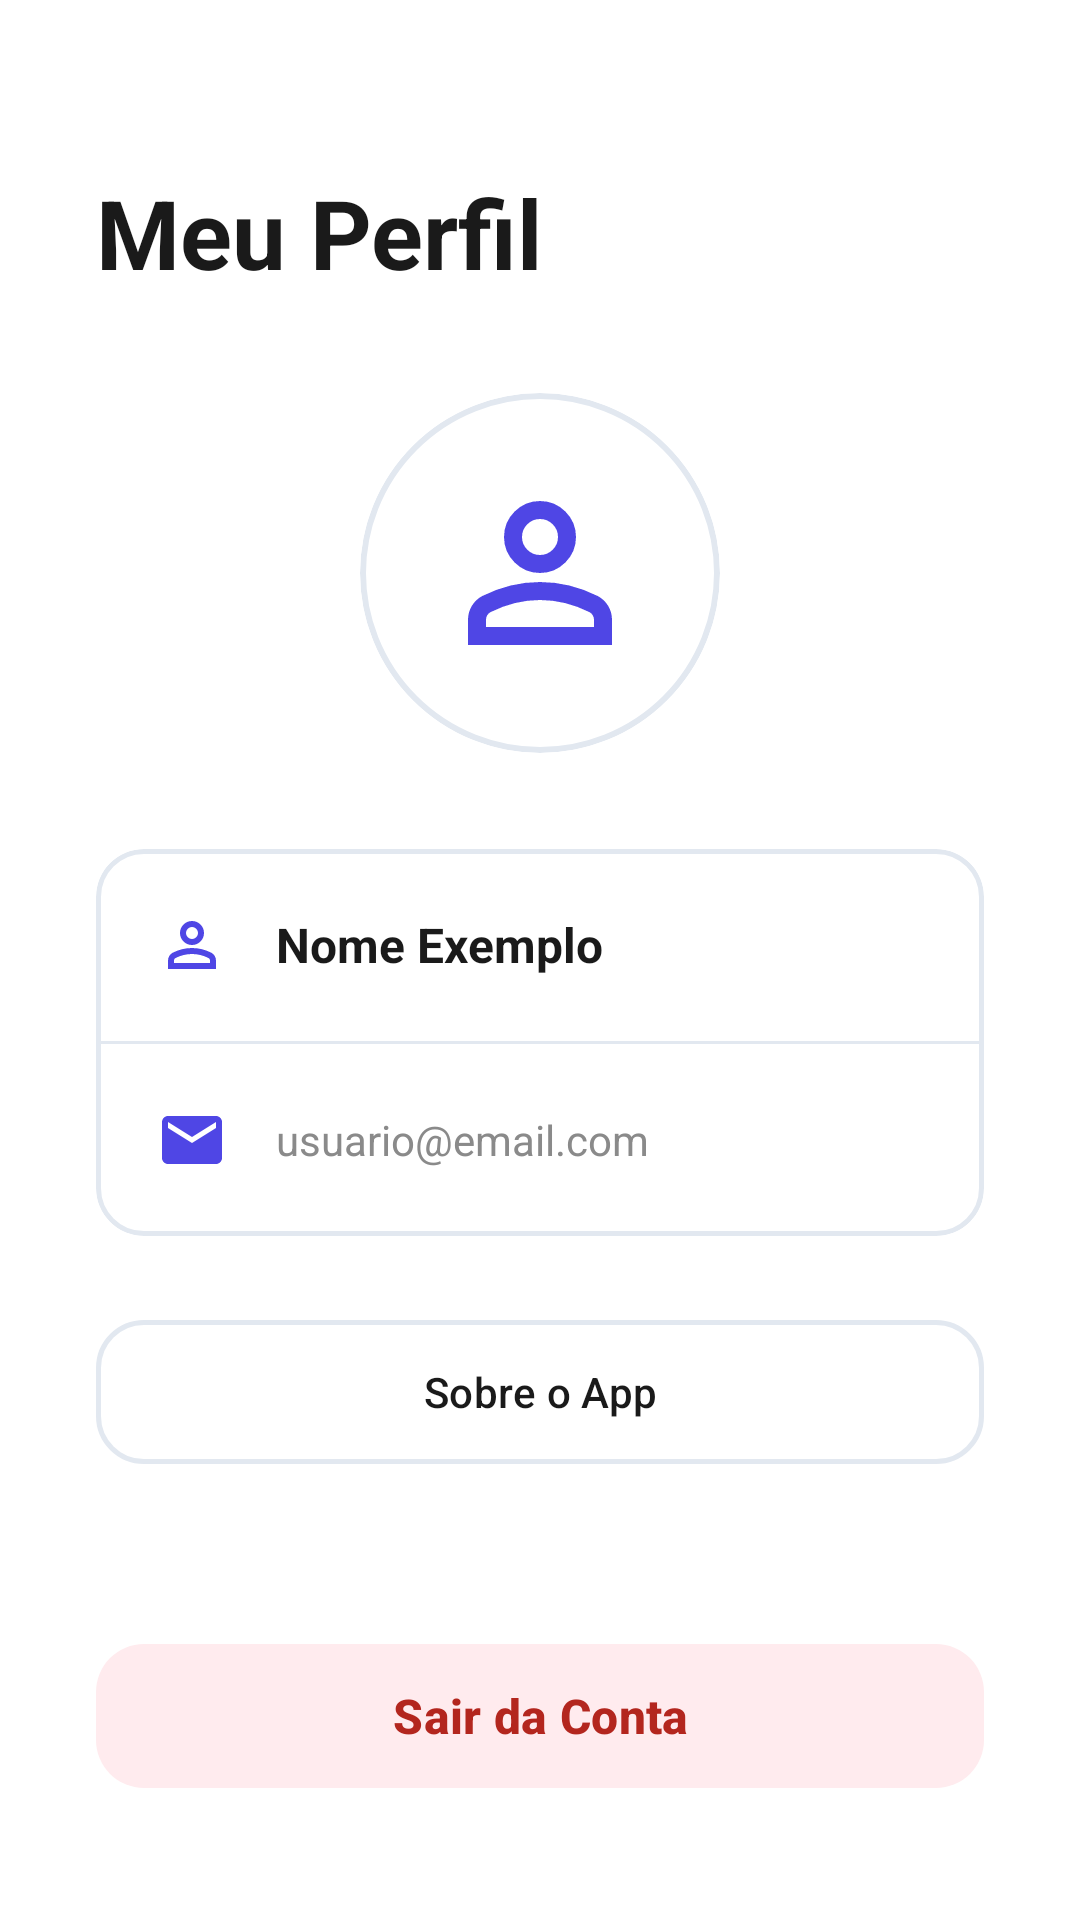

Icon bounding boxes for this 1080x1920 phone screenshot, format box=[x1, y1, x2, y2]:
person: box=[360, 393, 720, 753], box=[168, 921, 216, 969]
